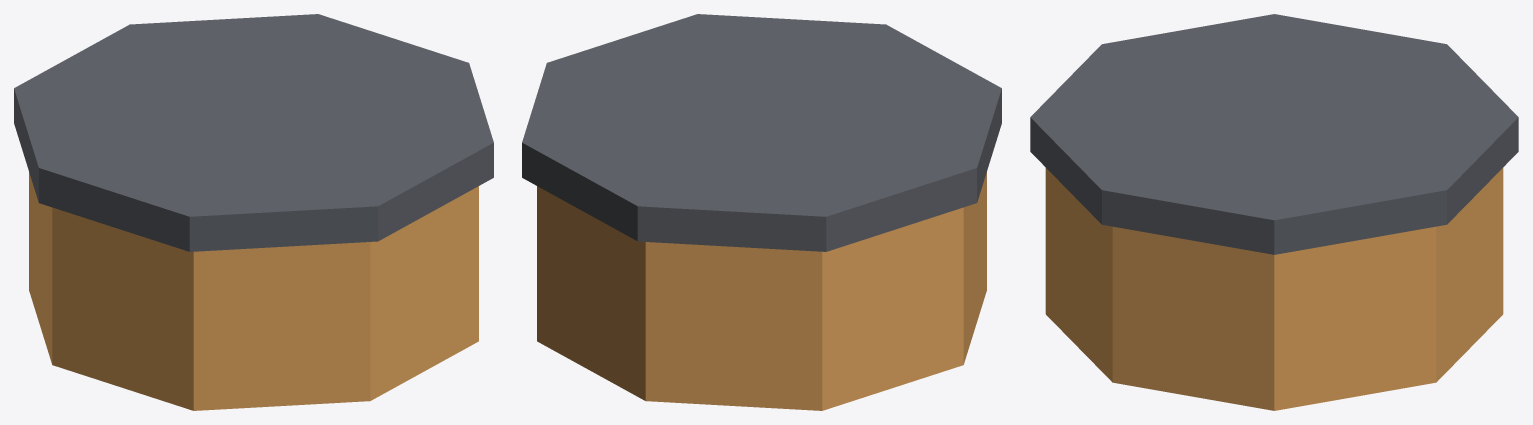
The model's file is chutepack_small.glb.
The picture shows the model from 3 angles, left to right: view 1: azimuth 30°, elevation 25°; view 2: azimuth 150°, elevation 25°; view 3: azimuth 270°, elevation 25°; orthographic projection.
Parts seen in each view (by area): view 1: chutepack_small; view 2: chutepack_small; view 3: chutepack_small.
Part boxes in pixels (left/top/right/bottom): chutepack_small: left=14, top=14, right=493, bottom=410; chutepack_small: left=522, top=14, right=1001, bottom=410; chutepack_small: left=1030, top=14, right=1518, bottom=410.
Size of the model in its own units: 0.64 by 0.285 by 0.64.
